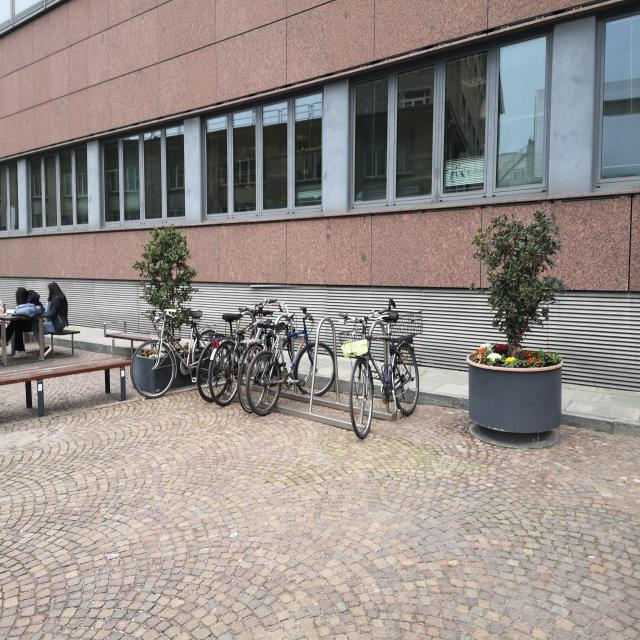Bicycle: (343, 298, 431, 445), (250, 302, 341, 434), (228, 301, 315, 418), (137, 301, 226, 407), (193, 298, 257, 417), (224, 307, 274, 414)
